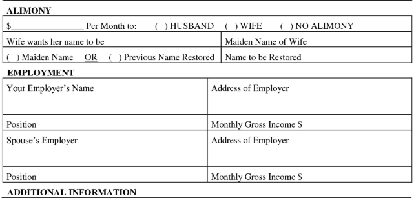checkbox: (155, 21, 168, 31), (225, 21, 238, 31), (280, 21, 293, 31), (6, 53, 19, 63), (109, 53, 121, 63)
textbox: (2, 77, 210, 118), (205, 76, 413, 117), (205, 128, 413, 169), (1, 128, 209, 169), (205, 112, 415, 132), (205, 164, 415, 184), (1, 113, 210, 133), (1, 164, 210, 184)
textline: (10, 22, 85, 31)
